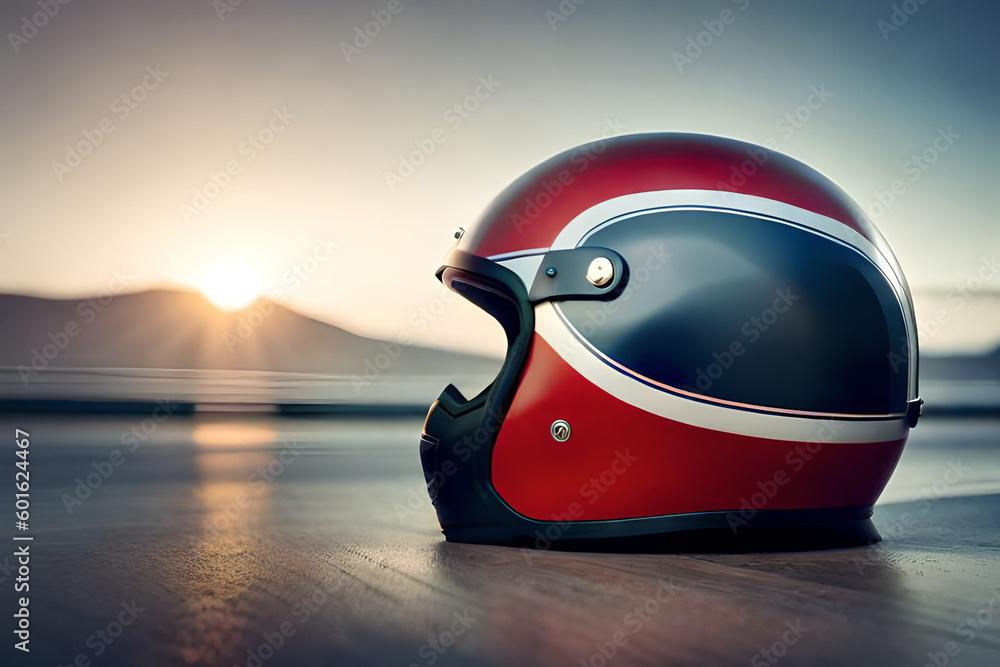helmet: (417, 129, 926, 557)
